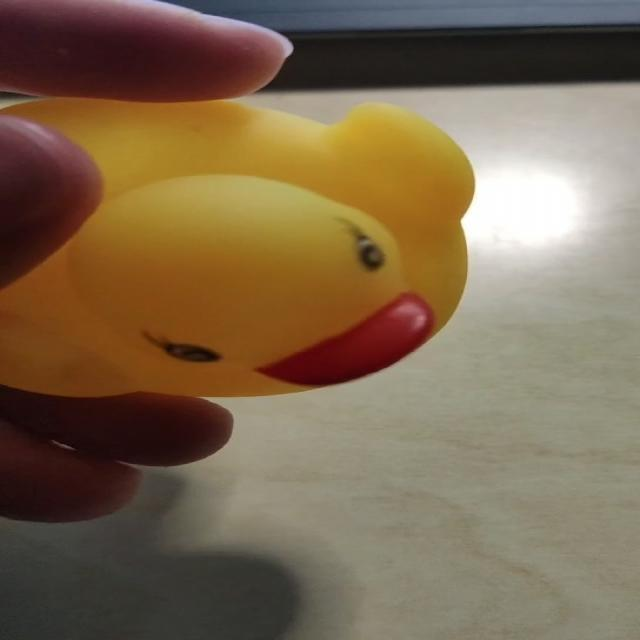rubber-duck: (0, 98, 472, 394)
